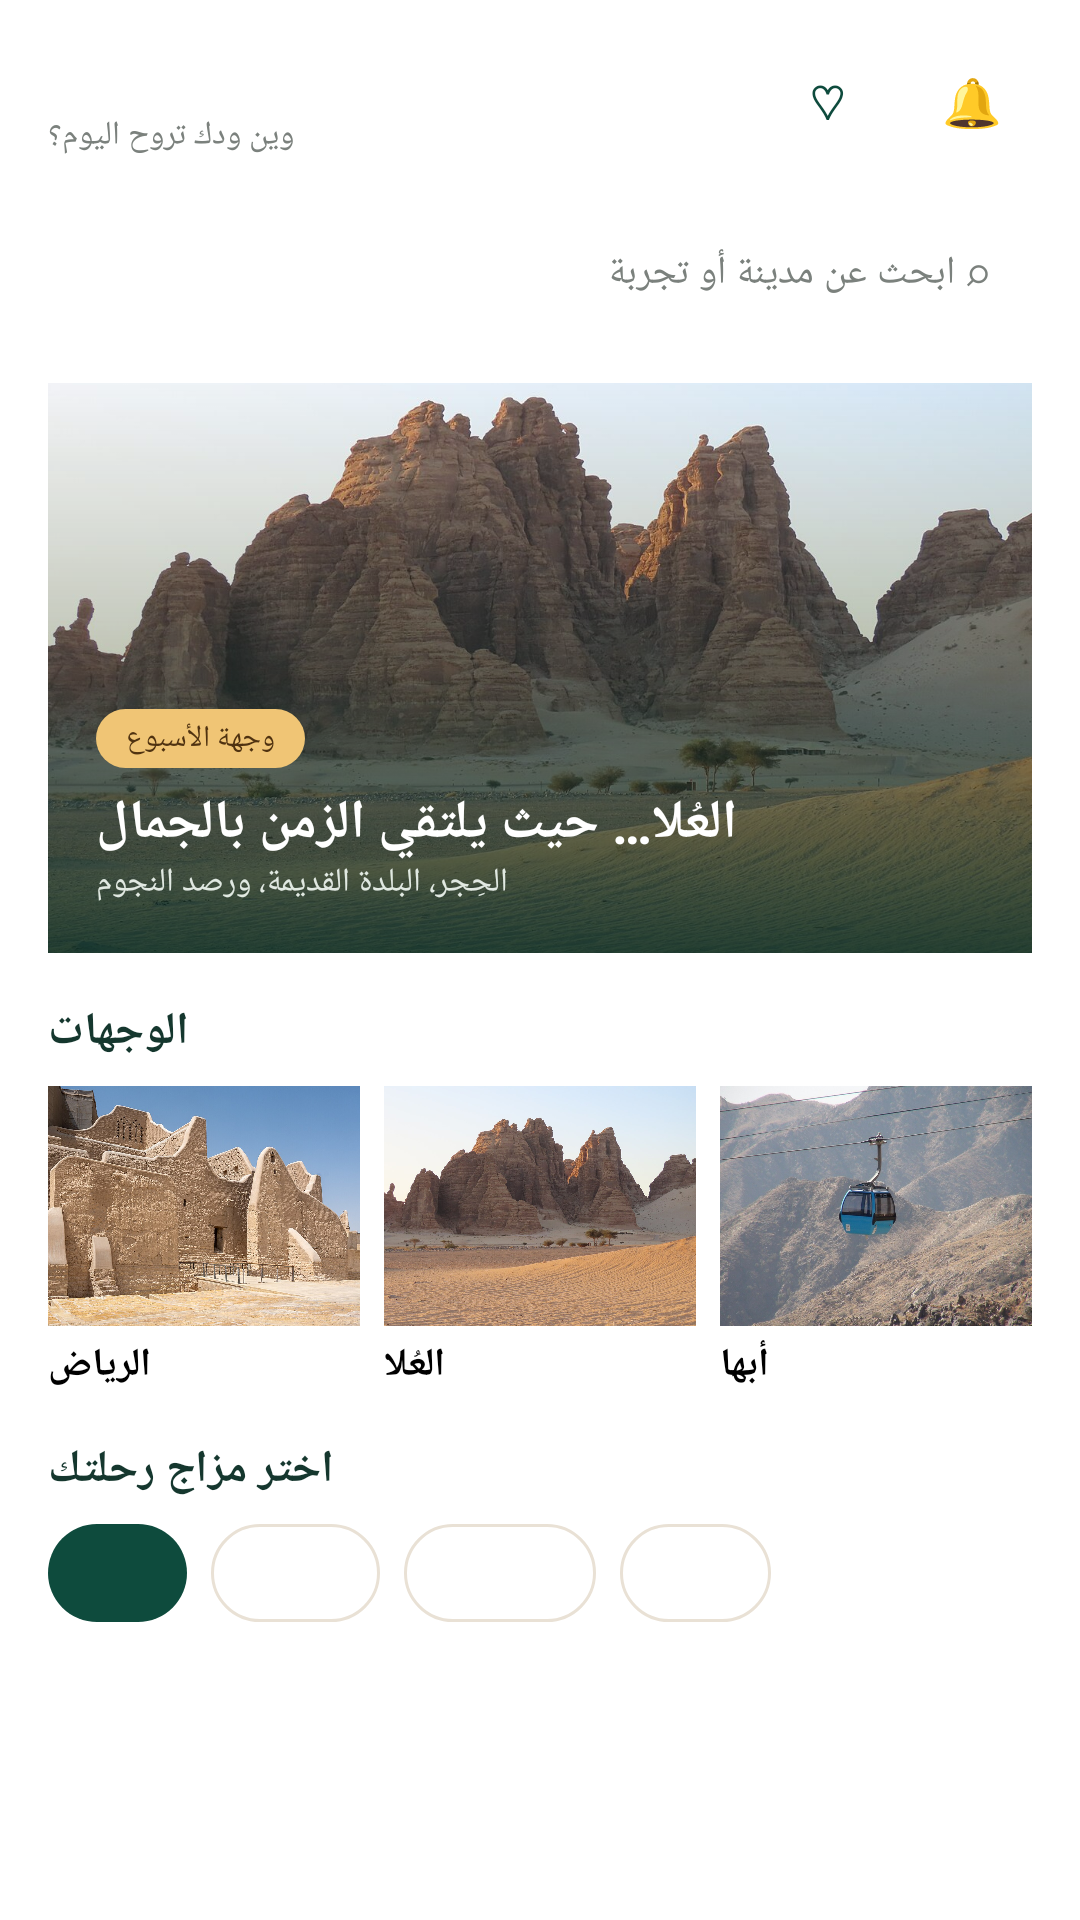

Named icons in this screenshot (1080*1920) and their centers, (x=x, y=y):
soudah: (x=876, y=1206)
turaif: (x=204, y=1206)
